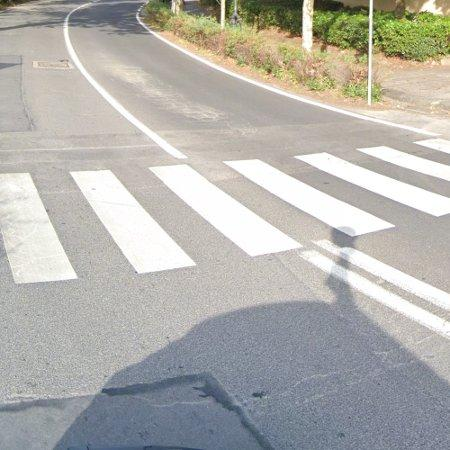crosswalks: (0, 138, 450, 283)
